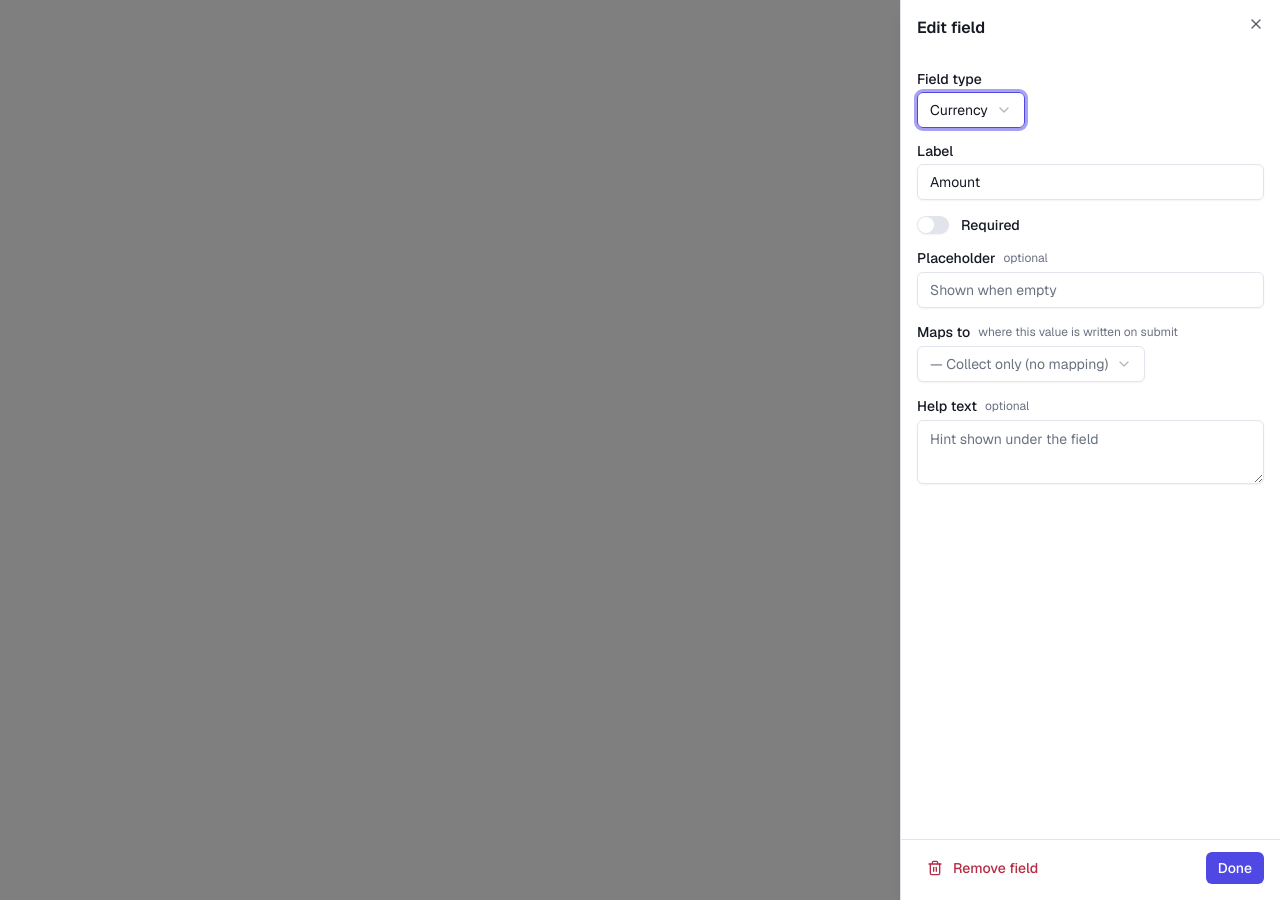
FieldConfigSheet — Maps to filtering › shows only 'amount' in the Maps to dropdown for a currency field
# Open the Maps to select
Click the dropdown named "maps to".
click(1031, 364)  # box top-left (917, 346), bottom-right (1145, 382)
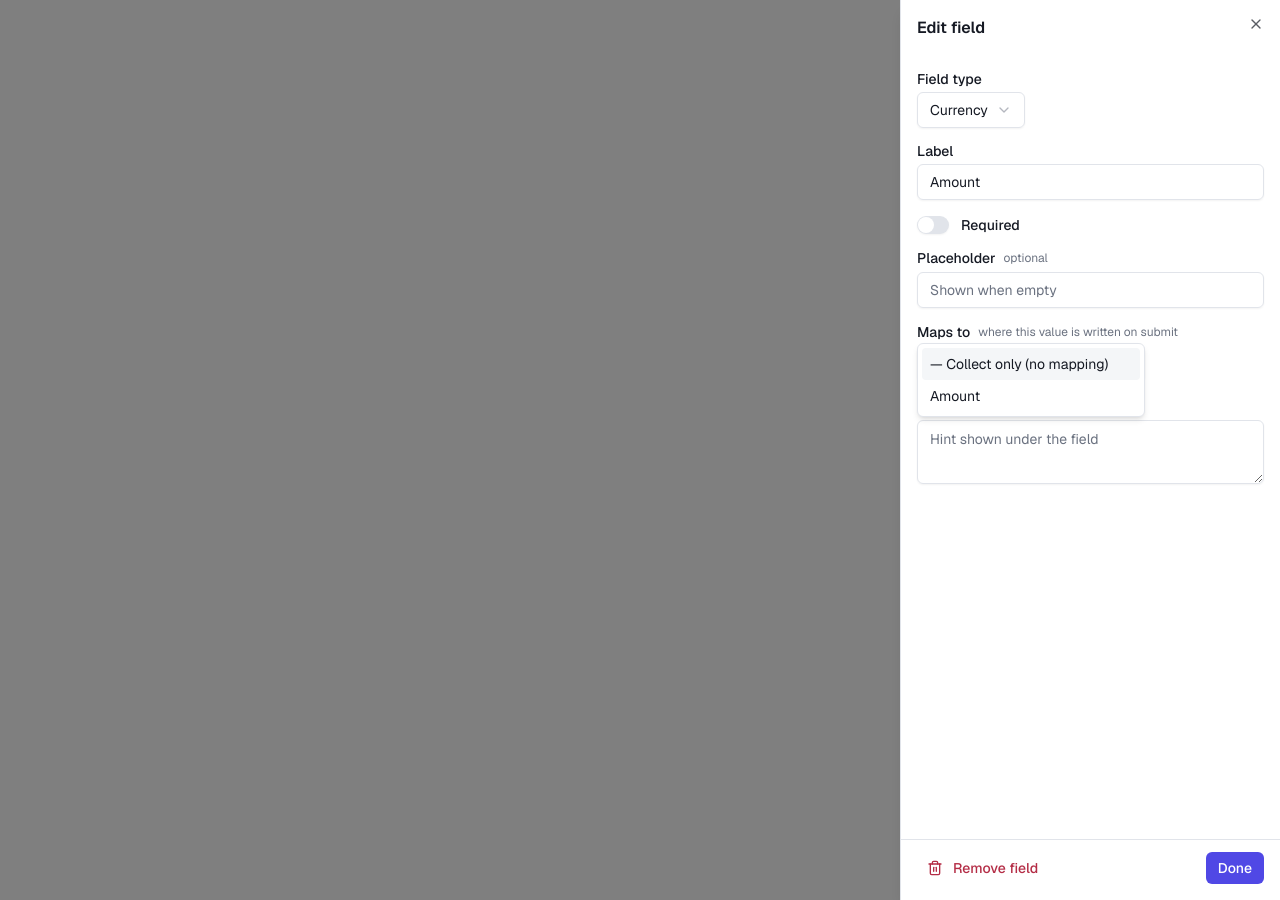
Result: the option "Amount" is shown at top-left (930, 387), bottom-right (980, 405)
